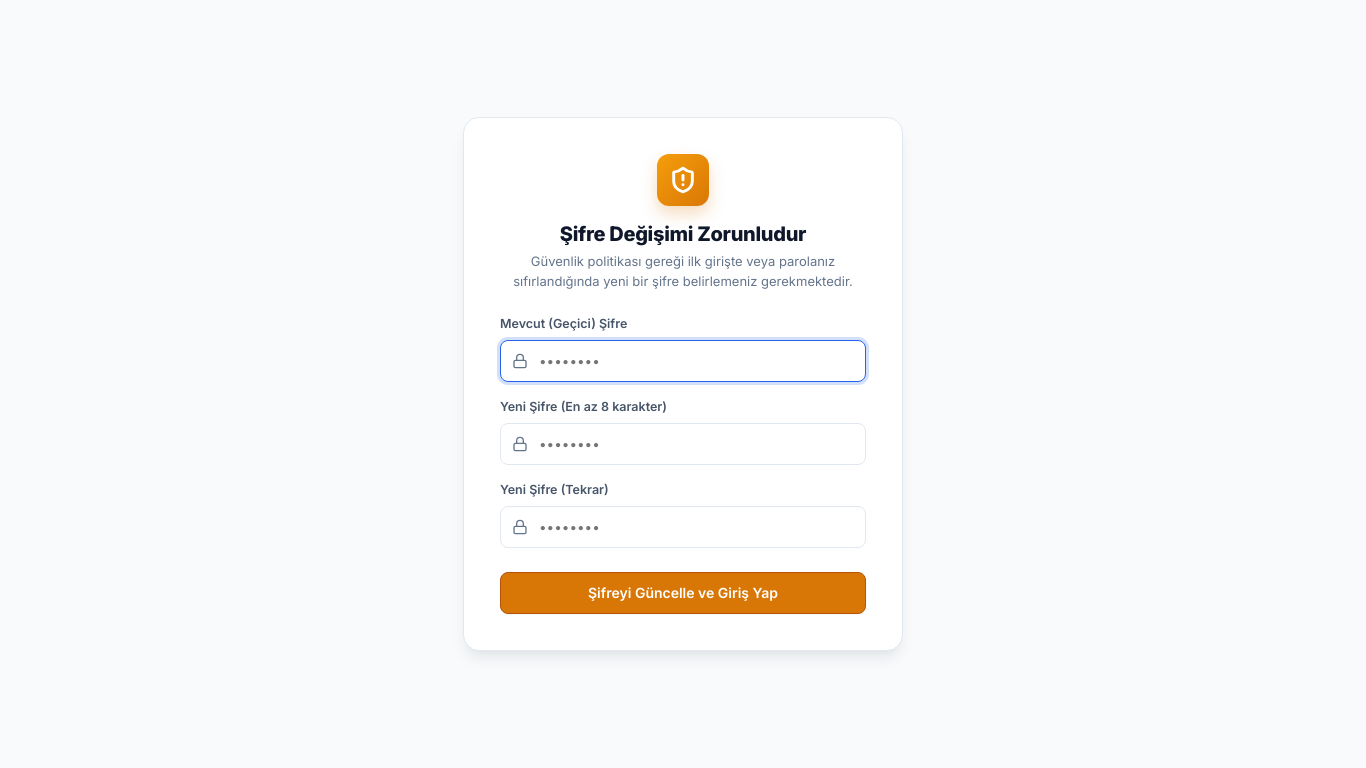
Test: ForceChangePassword Component › should display error if new password is shorter than 8 characters
Step 1. Type "oldpass123" into the password field labelled "Mevcut (Geçici) Şifre" → (683, 361), box [500,340,866,382]
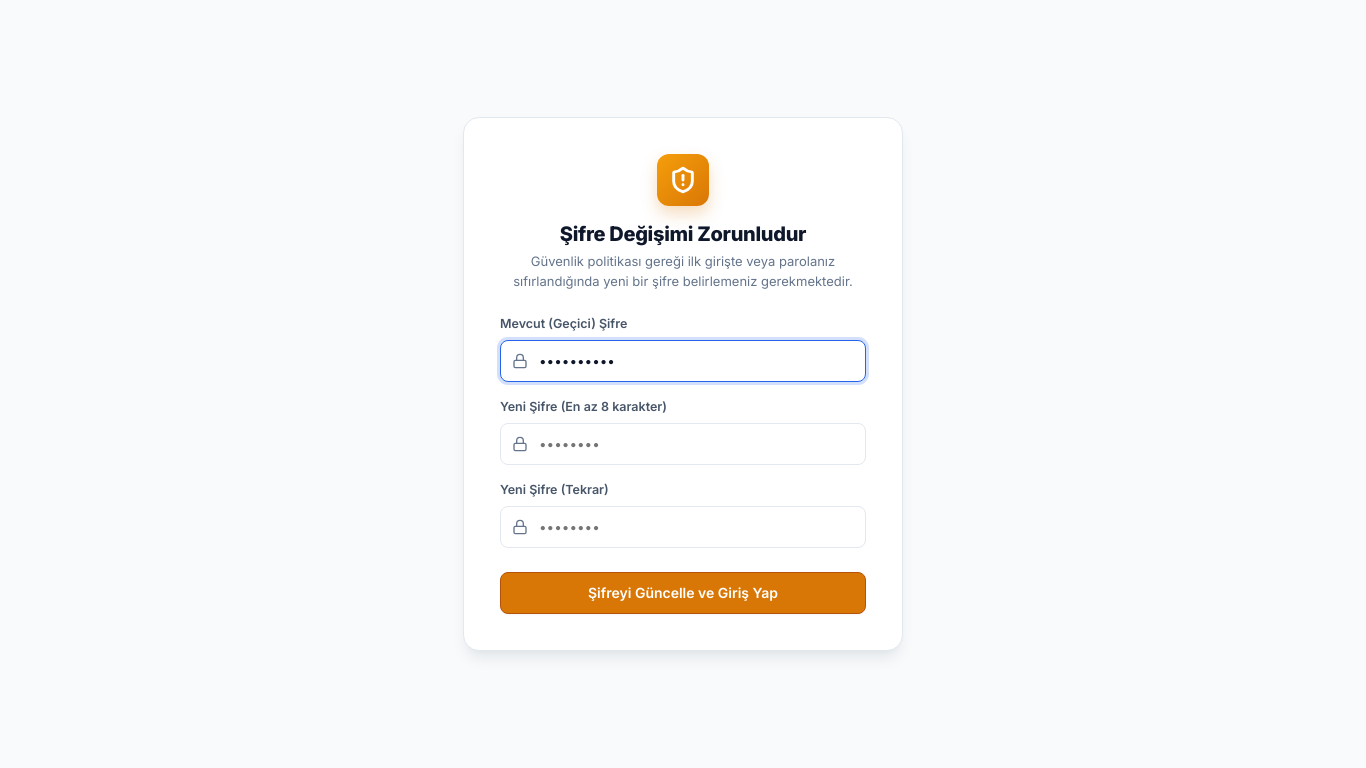
Step 2. Type "short" into the password field labelled "Yeni Şifre (En az 8 karakter)" → (683, 444), box [500,423,866,465]
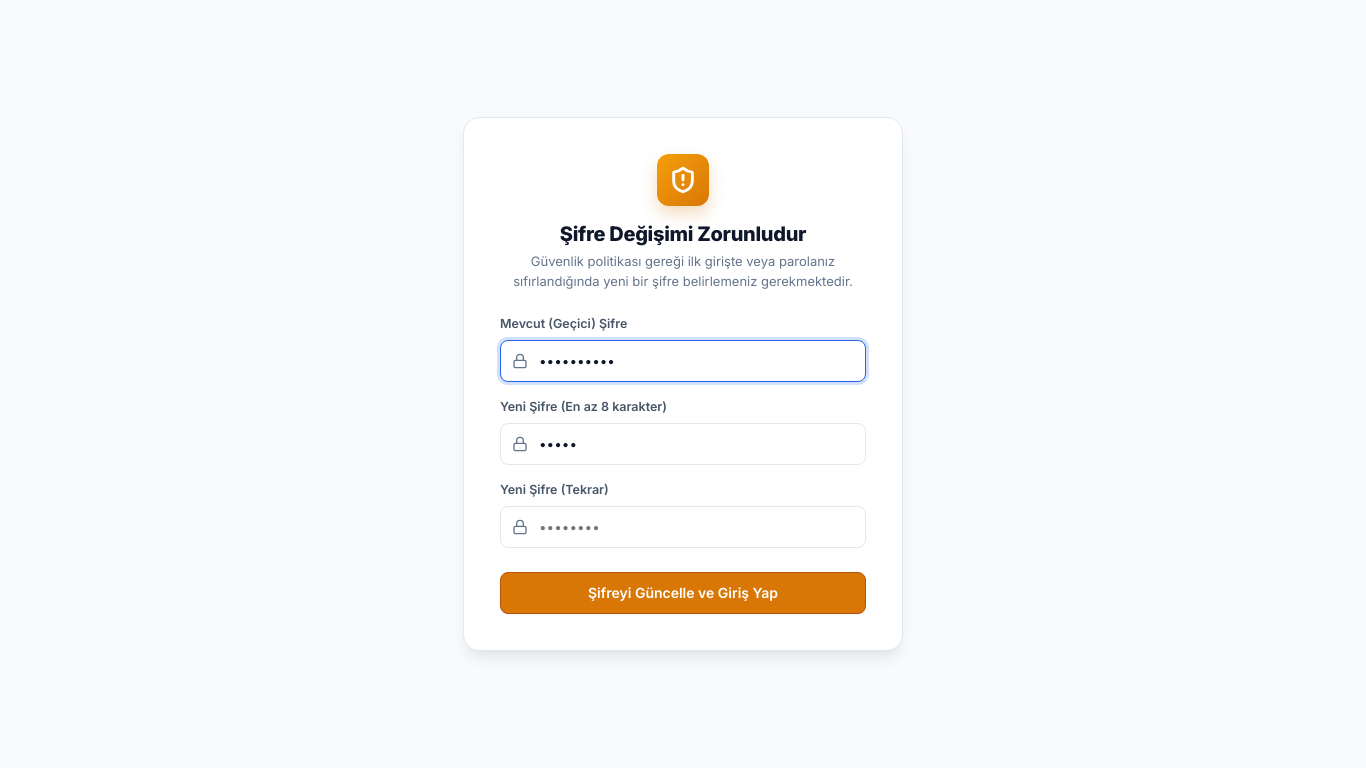
Step 3. Type "short" into the password field labelled "Yeni Şifre (Tekrar)" → (683, 527), box [500,506,866,548]
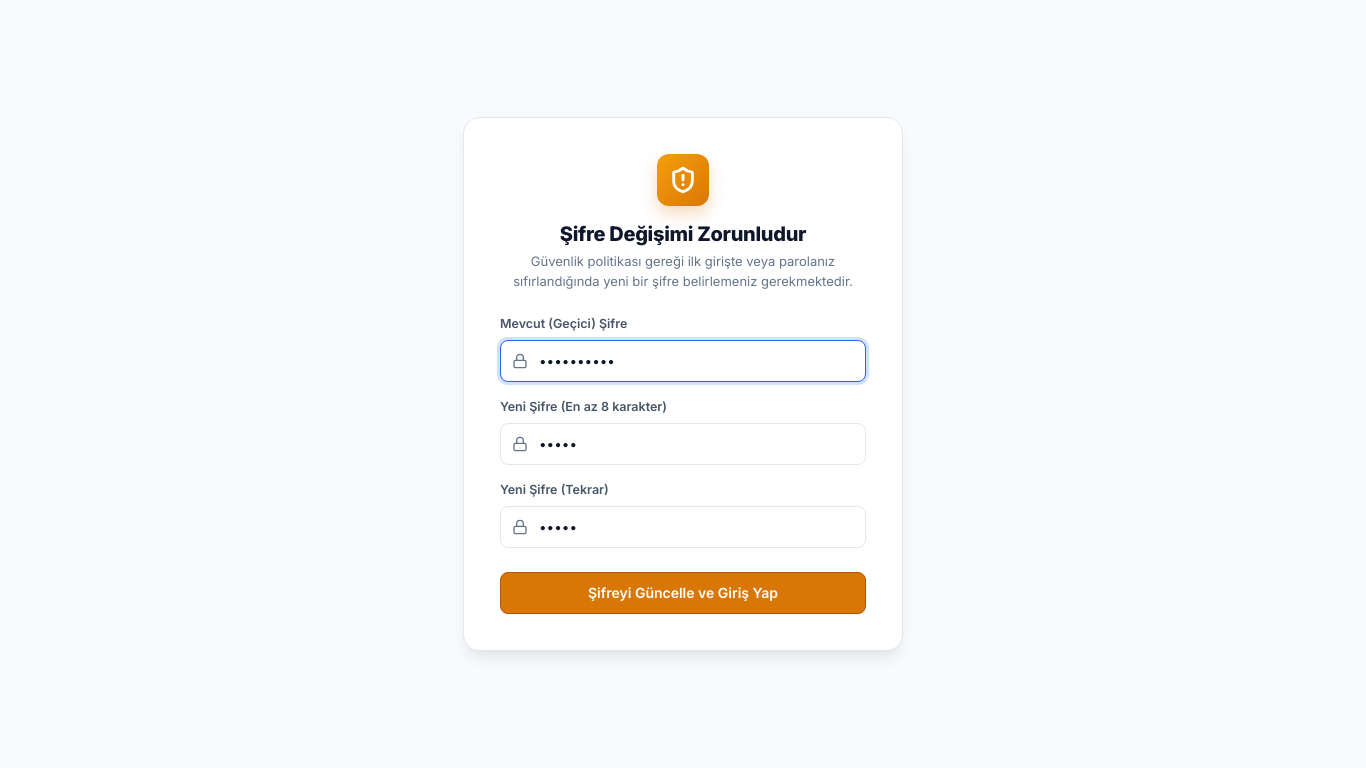
Step 4. Click the button "Şifreyi Güncelle ve Giriş Yap" → click(683, 593), box [500,572,866,614]
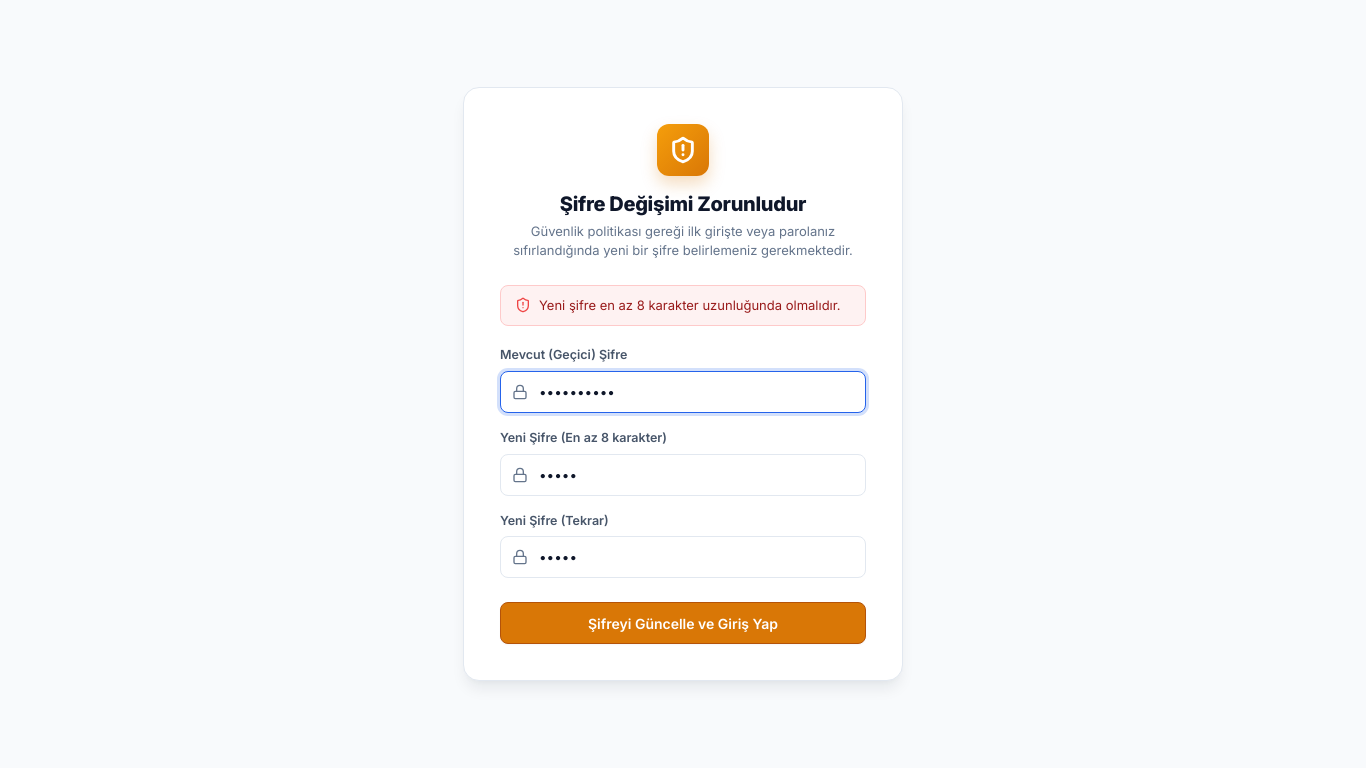
Result: the text "Yeni şifre en az 8 karakter uzunluğunda olmalıdır." is shown at [539,296,841,315]
